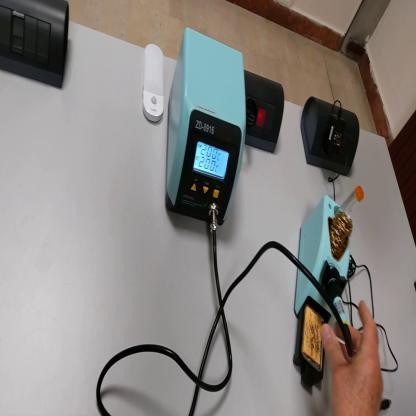hand: (322, 293, 383, 415)
socket: (300, 92, 361, 179), (244, 69, 285, 155)
welder base: (294, 187, 365, 395)
welder probe tip: (328, 273, 356, 362)
welder station: (166, 27, 248, 228)
